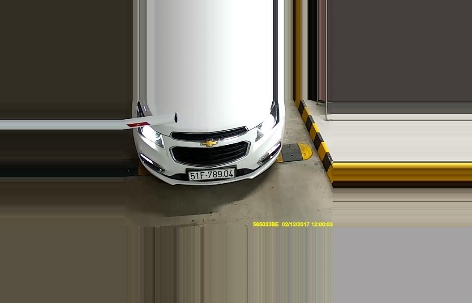plate: (185, 166, 236, 180)
